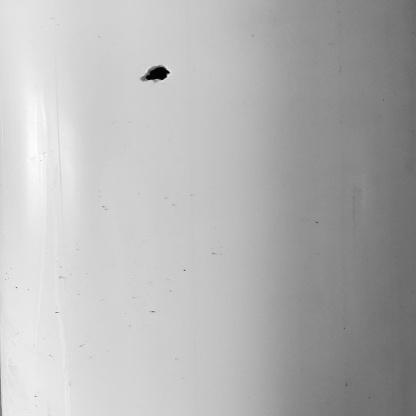kongdong: (129, 60, 189, 88)
